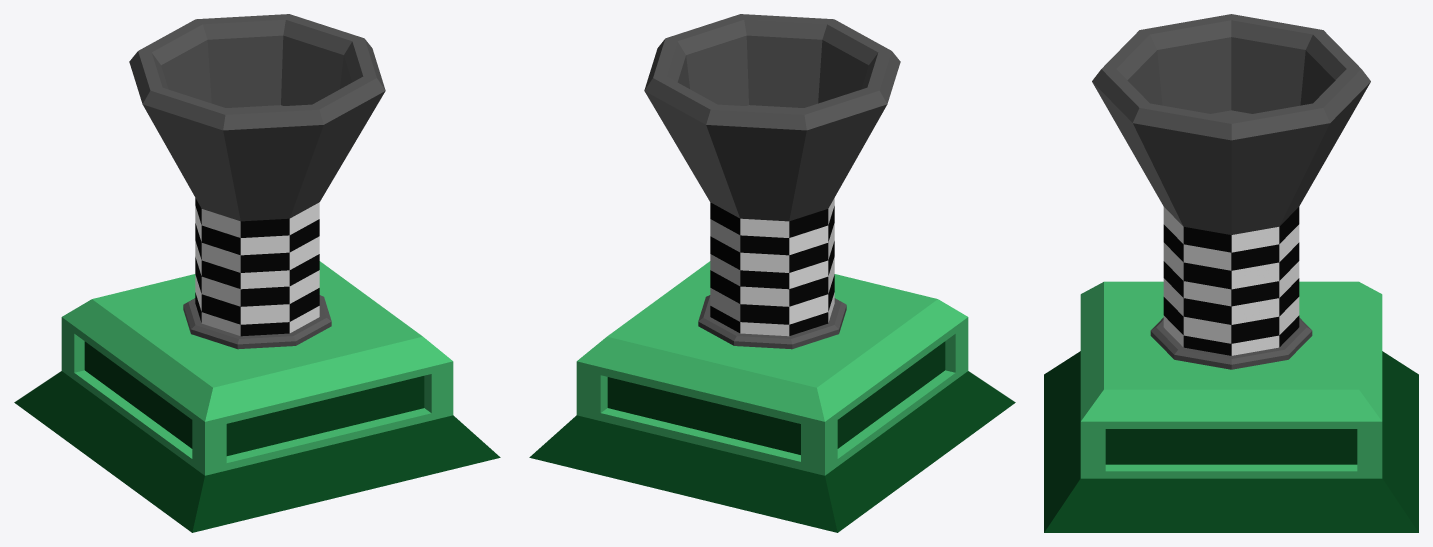
File: meta.FBX
3 views of the same model, side by side, from view 1: azimuth 30°, elevation 25°; view 2: azimuth 150°, elevation 25°; view 3: azimuth 270°, elevation 25° (orthographic). The views are drawn at different scales.
Parts seen in each view (by area): view 1: Box001; view 2: Box001; view 3: Box001.
Boxes of the visible parts, x1=… form: Box001: x1=14, y1=14, x2=500, y2=532; Box001: x1=529, y1=14, x2=1015, y2=532; Box001: x1=1044, y1=14, x2=1418, y2=532.
Size of the model in its own units: 20 by 22.65 by 20.
